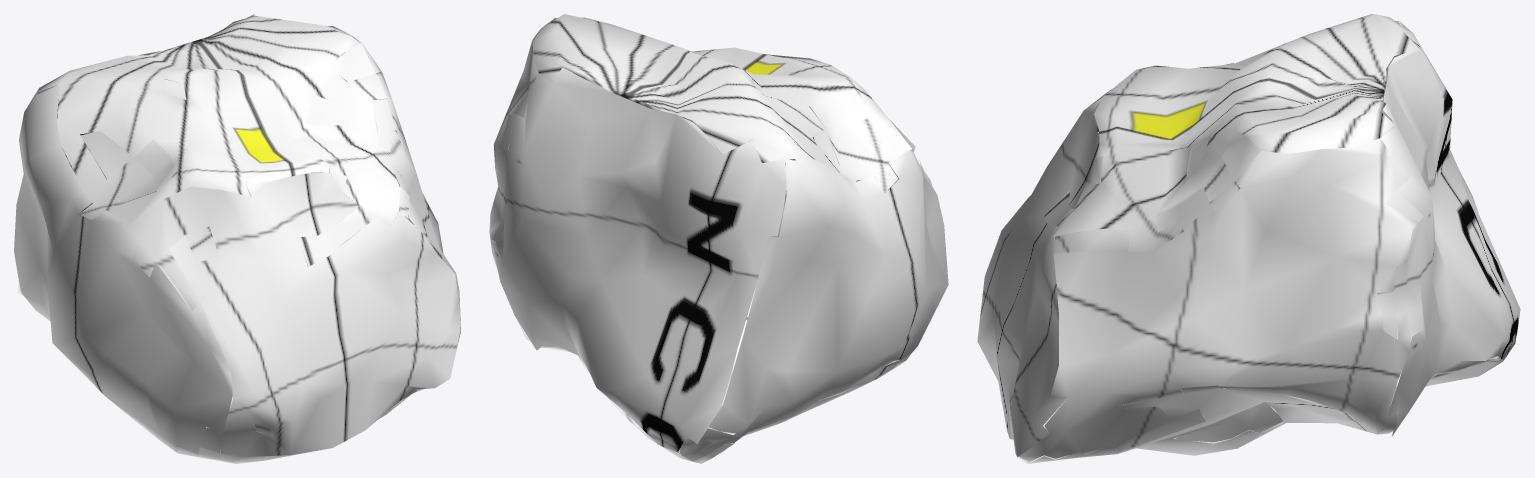
The model's file is asteroide7.obj.
3 views of the same model, side by side, from view 1: azimuth 30°, elevation 25°; view 2: azimuth 150°, elevation 25°; view 3: azimuth 270°, elevation 25° (orthographic). The views are drawn at different scales.
Parts seen in each view (by area): view 1: Asteroid_no_7_Material_#3_0; view 2: Asteroid_no_7_Material_#3_0; view 3: Asteroid_no_7_Material_#3_0.
Boxes of the visible parts, bbox=[...] form: Asteroid_no_7_Material_#3_0: bbox=[14, 14, 460, 463]; Asteroid_no_7_Material_#3_0: bbox=[489, 14, 948, 463]; Asteroid_no_7_Material_#3_0: bbox=[977, 14, 1520, 463].
Size of the model in its own units: 0.6375 by 0.5889 by 0.7129.
